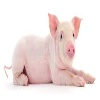heo: (4, 11, 96, 88)
